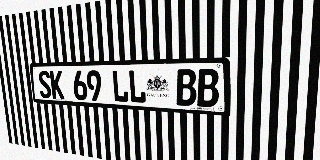6: (72, 70, 88, 100)
9: (86, 70, 102, 101)
B: (197, 69, 219, 107), (176, 69, 196, 106)
K: (49, 70, 64, 99)
L: (111, 70, 129, 103), (128, 70, 146, 103)
S: (37, 71, 52, 98)
